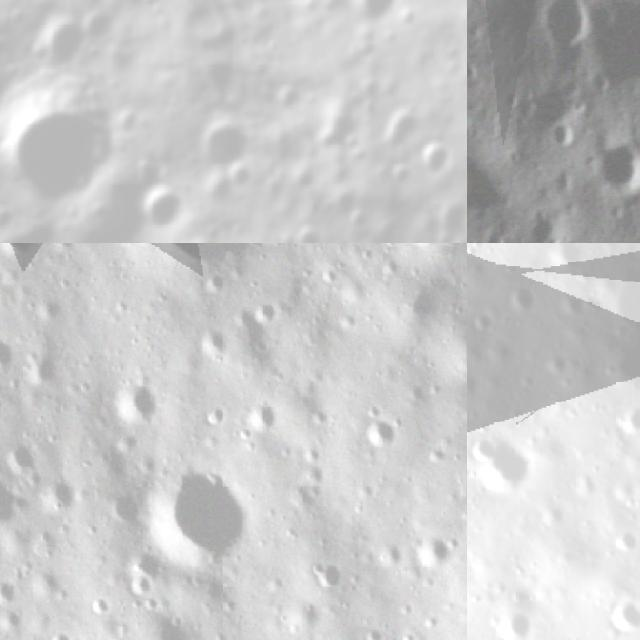crater: (0, 76, 125, 219), (144, 456, 246, 574), (130, 243, 272, 299), (29, 0, 108, 79), (467, 426, 545, 506), (576, 0, 640, 96), (186, 109, 255, 178), (370, 86, 436, 158), (580, 141, 640, 208), (136, 174, 192, 240), (407, 121, 467, 178), (538, 0, 595, 59), (265, 74, 319, 127), (343, 0, 409, 43), (111, 368, 157, 423), (594, 592, 640, 639), (366, 411, 408, 459), (445, 302, 467, 390), (498, 274, 542, 318), (487, 603, 538, 640), (412, 528, 453, 573), (250, 394, 286, 445), (290, 157, 334, 198), (0, 466, 26, 535), (37, 476, 83, 514), (216, 153, 257, 193), (105, 485, 141, 523), (31, 348, 66, 386), (196, 324, 229, 364), (604, 523, 640, 559), (281, 220, 336, 243), (0, 243, 54, 266), (610, 402, 640, 443), (467, 143, 479, 218), (0, 325, 13, 368)
